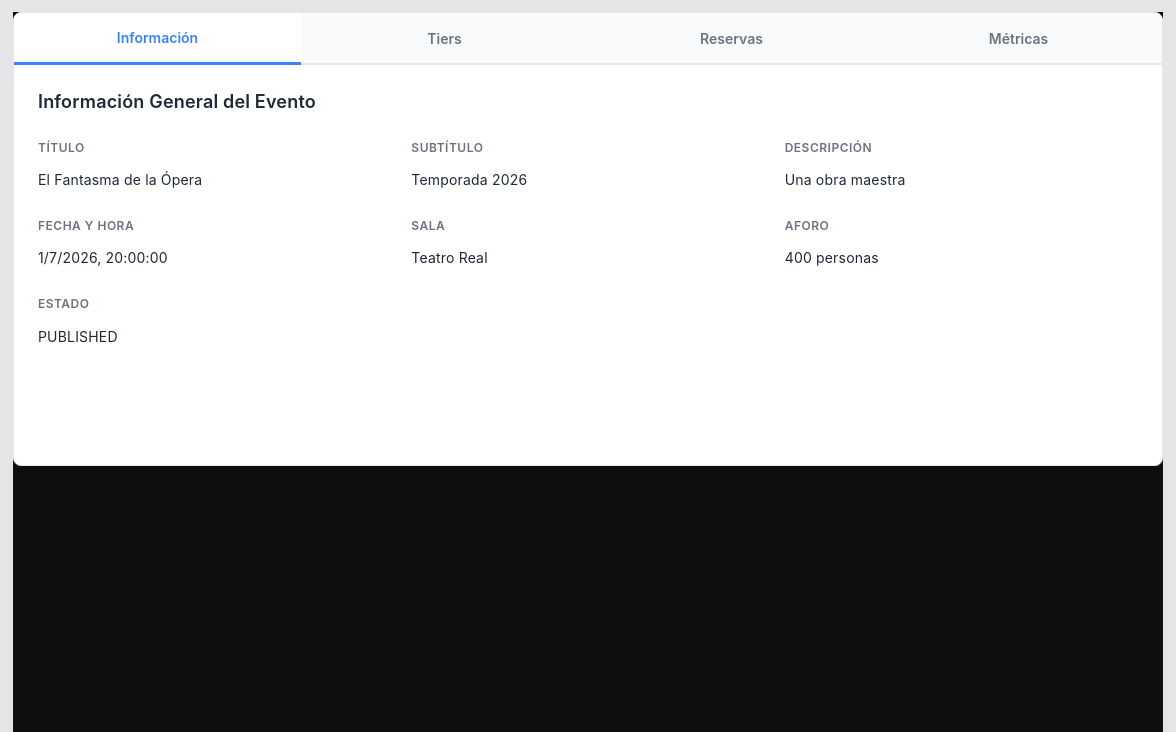
Scenario: EventDetailTabs › switches to Tiers tab on click
The image size is (1176, 732).
What coordinates should you click on to do the following:
click the button "Tiers"
I would click on:
 (444, 38)
Its box is x1=301 y1=13 x2=588 y2=63.
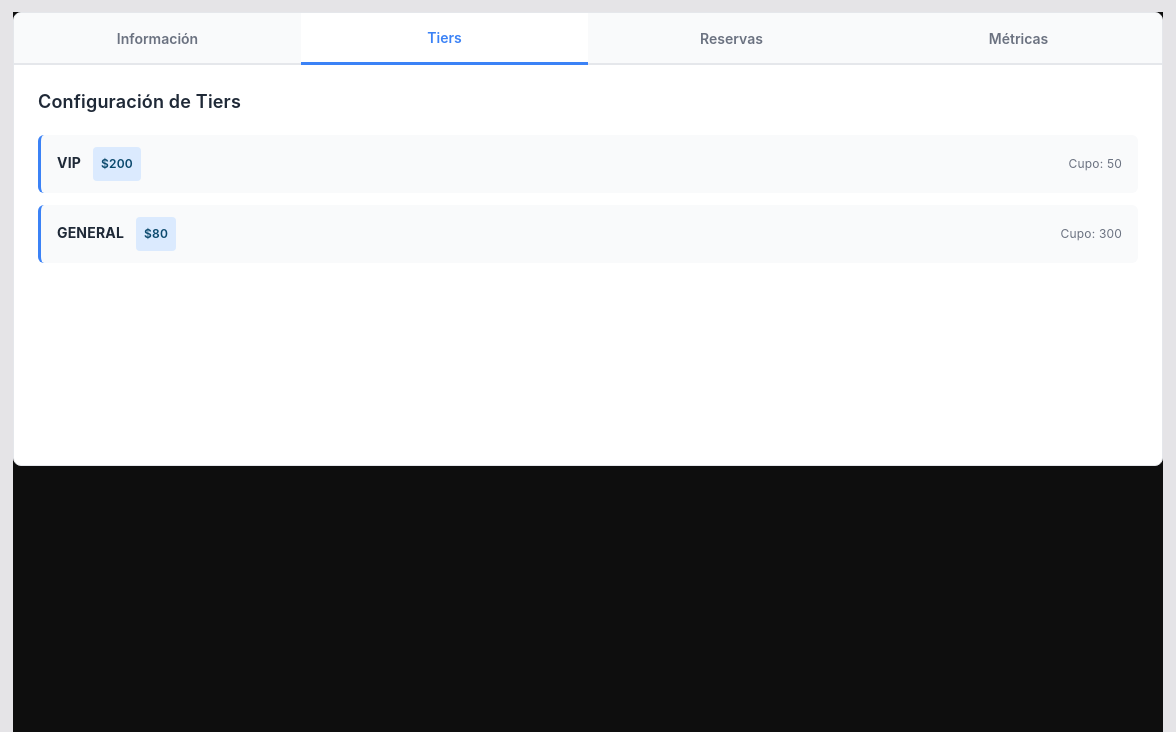
Expected: the text "GENERAL" is shown, x1=57 y1=224 x2=124 y2=241
Expected: the heading "Configuración de Tiers" is shown, x1=38 y1=91 x2=241 y2=112
Expected: the text "VIP" is shown, x1=57 y1=154 x2=81 y2=171
